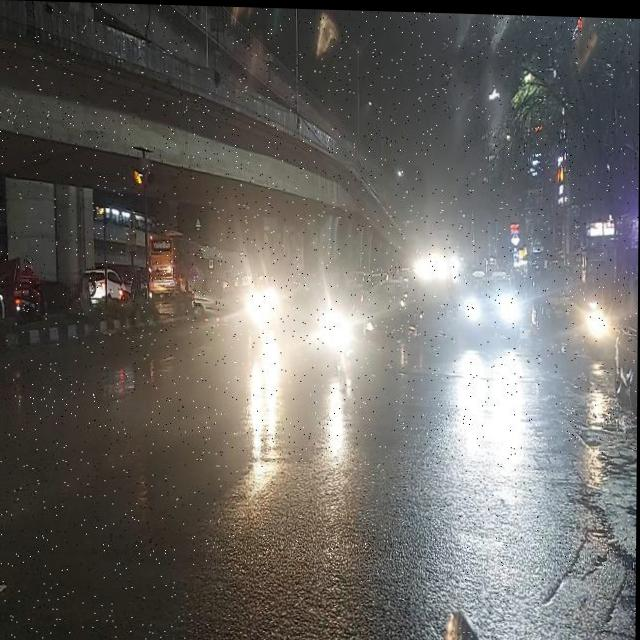car: (456, 272, 527, 353), (196, 270, 268, 346), (80, 261, 146, 314), (246, 287, 298, 332), (378, 272, 410, 315)
motorcycle: (308, 295, 386, 375), (526, 269, 588, 351), (12, 258, 65, 332), (576, 294, 623, 364)
